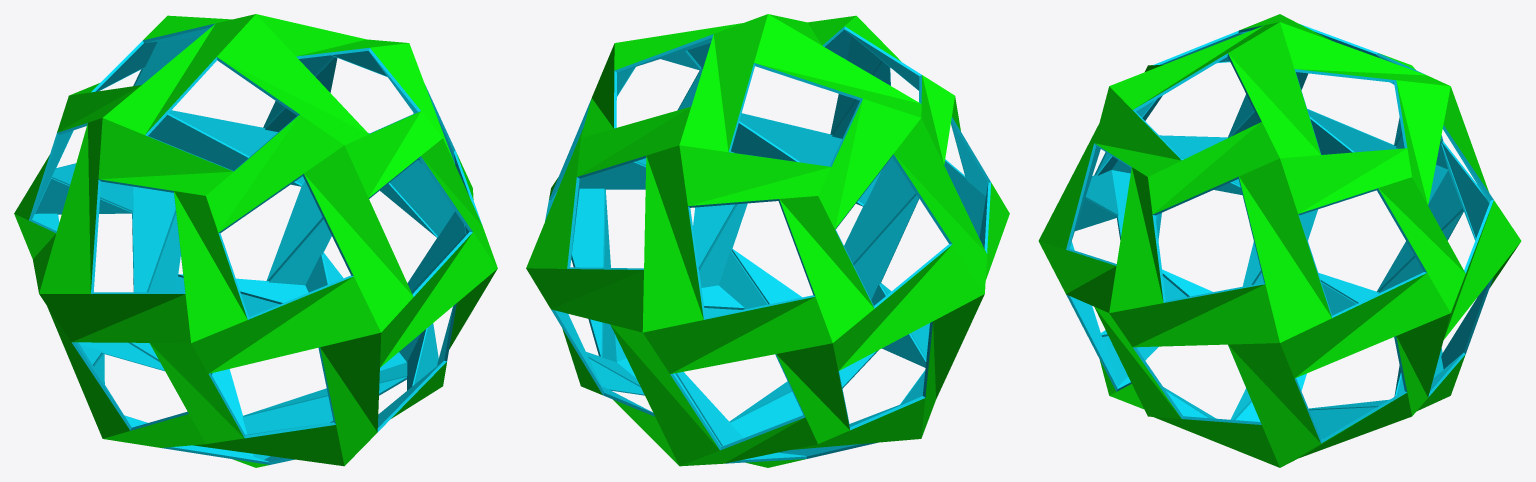
File: DeltoidalIcositetrahedron.glb
3 views of the same model, side by side, from view 1: azimuth 30°, elevation 25°; view 2: azimuth 150°, elevation 25°; view 3: azimuth 270°, elevation 25° (orthographic). The views are drawn at different scales.
Visible parts, largest first — view 1: root; view 2: root; view 3: root.
Part boxes in pixels (bbox=[...]): root: bbox=[14, 14, 497, 467]; root: bbox=[526, 14, 1009, 467]; root: bbox=[1038, 14, 1521, 467].
Size of the model in its own units: 8.47 by 8.47 by 8.47.
